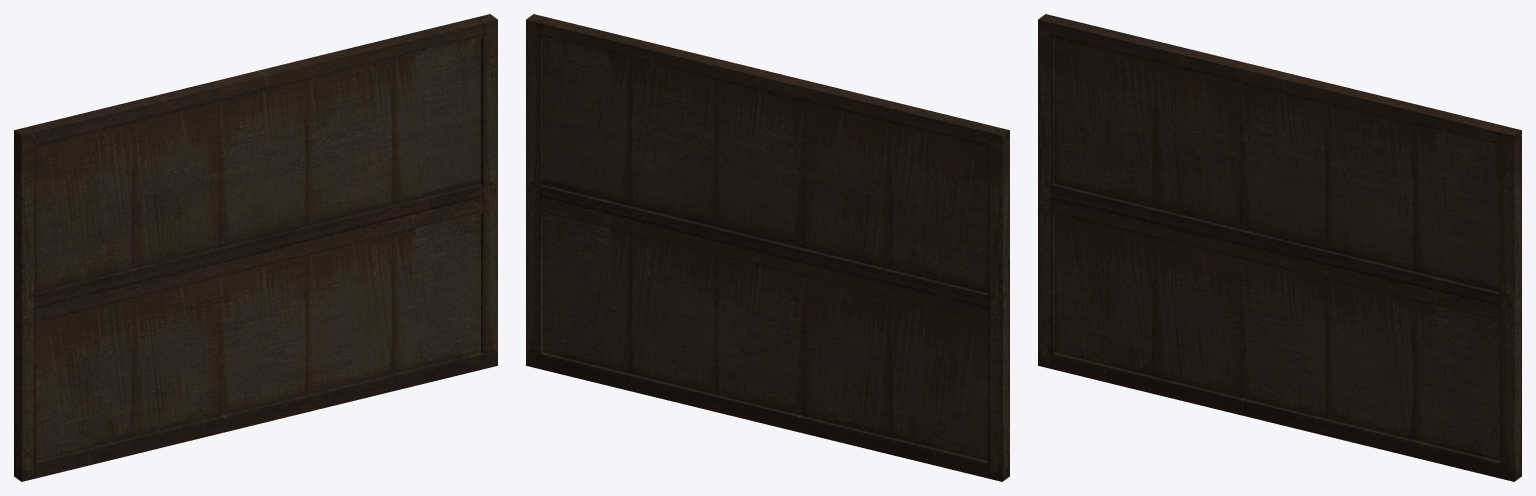
The model's file is metal_fence_hr_1.glb.
3 renders of one model, left to right at view 1: azimuth 30°, elevation 25°; view 2: azimuth 150°, elevation 25°; view 3: azimuth 330°, elevation 25°, orthographic.
Visible parts, largest first — view 1: metal_fence_hr_1; view 2: metal_fence_hr_1; view 3: metal_fence_hr_1.
Boxes of the visible parts, x1,y1,x2,y2 form: metal_fence_hr_1: (14,14,497,481); metal_fence_hr_1: (526,14,1009,481); metal_fence_hr_1: (1038,14,1521,481).
Bounding box in the file's own units: 3.6 × 2.5 × 0.1.
Materials: 1 (1 with a texture image).
